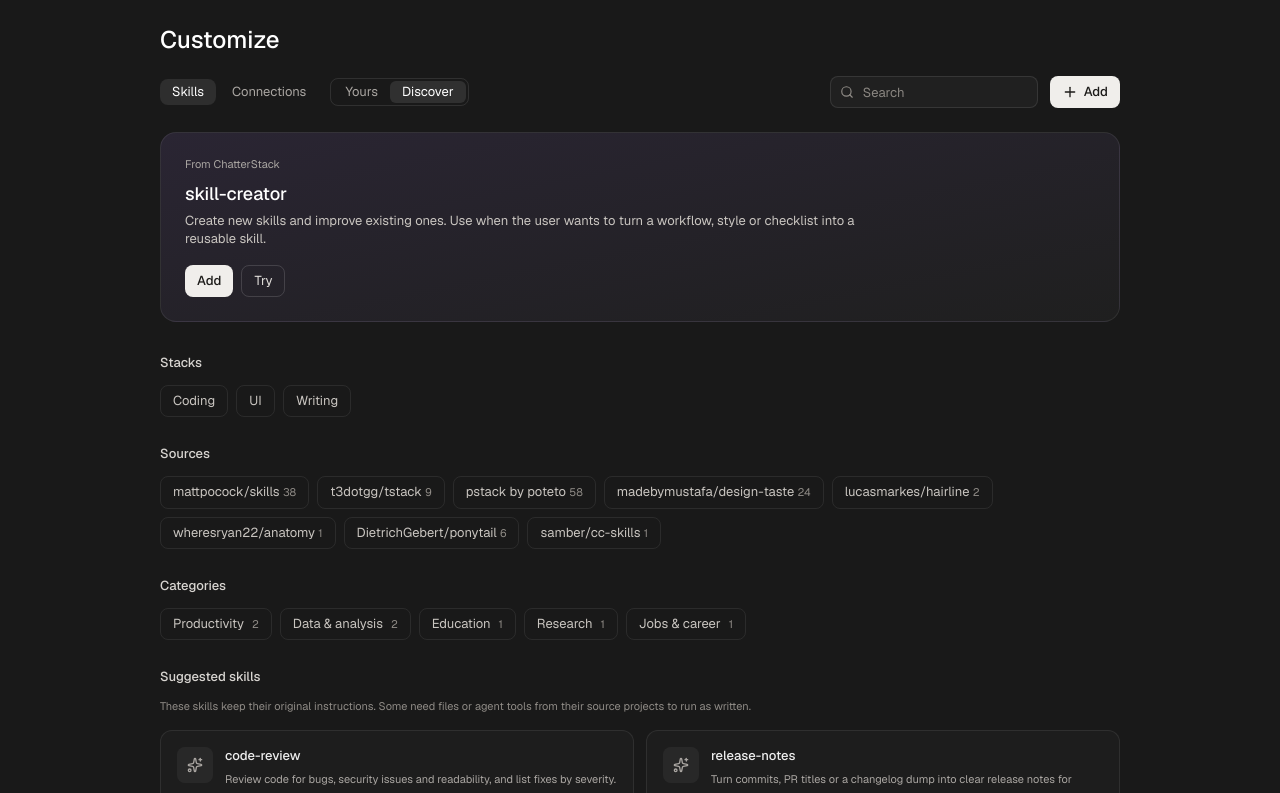
it: Customize → Skills → Discover › filters by category
Click the button "Jobs & career 1": (686, 624) [626,608,746,640]
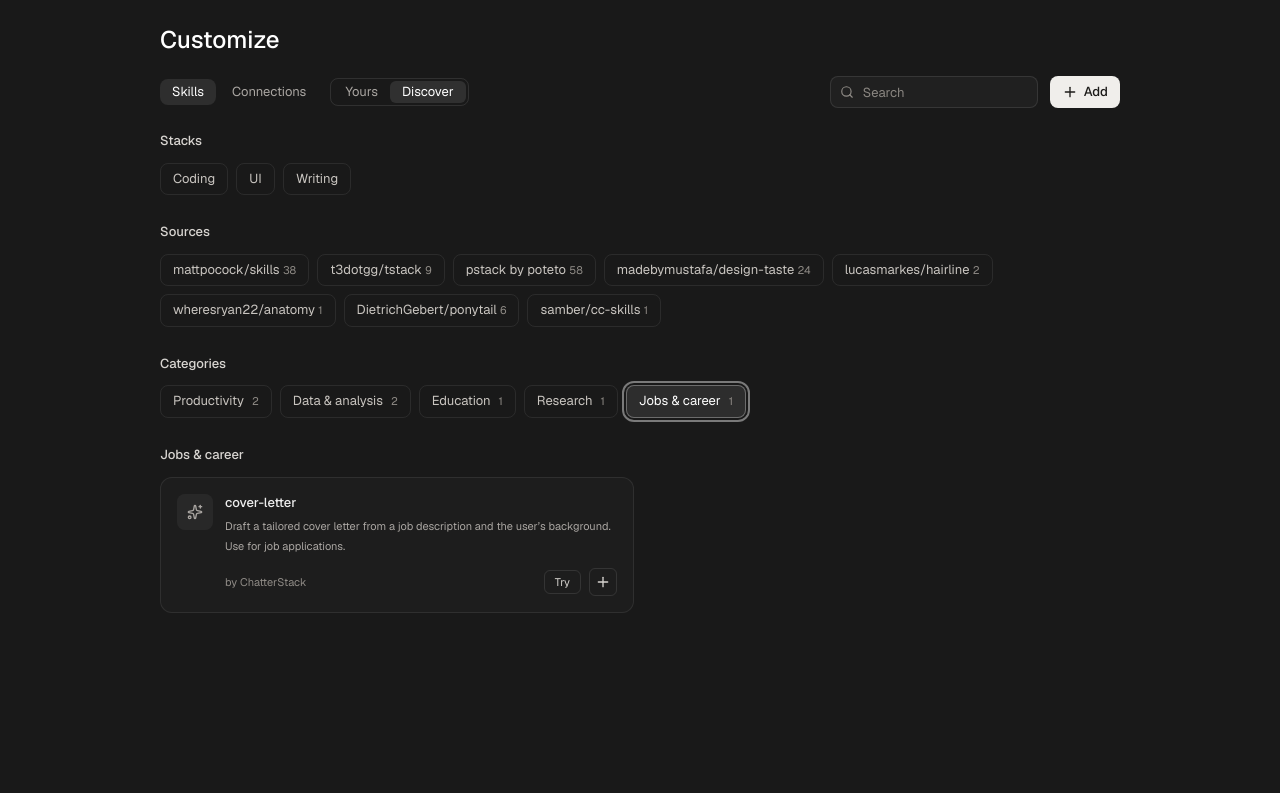
Expected: the headings read "cover-letter", in this order, [225,494,296,510]
